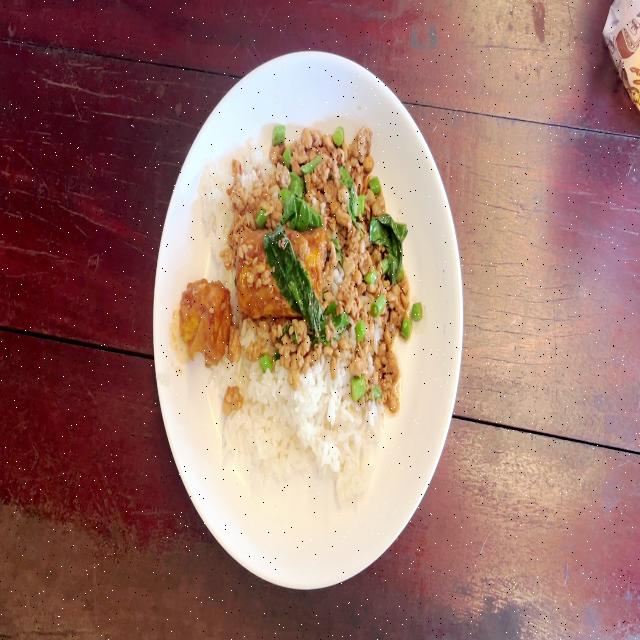fried_tofo: (233, 223, 326, 316), (183, 281, 230, 363)
minced_pork: (326, 222, 414, 409), (230, 120, 378, 224)
rice: (225, 362, 382, 493)
stir_fried_basil: (184, 126, 430, 514)
